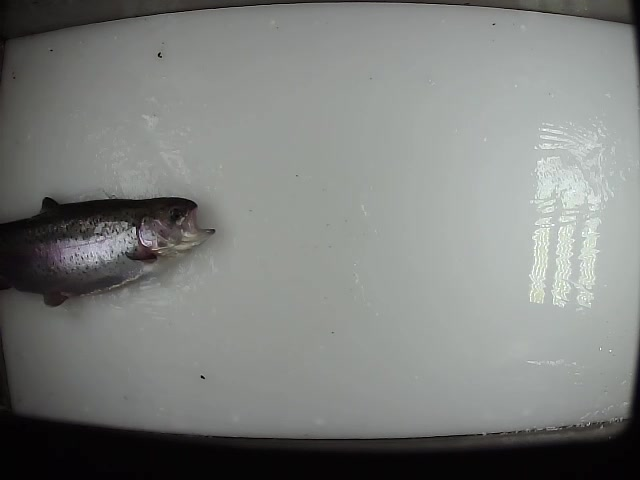fish: (1, 194, 217, 309)
